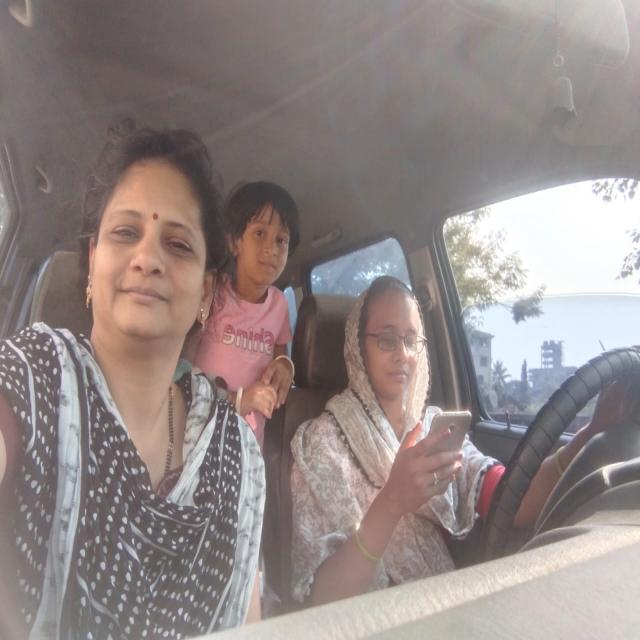mobile: (432, 408, 472, 490)
person: (76, 128, 215, 367), (344, 270, 435, 415), (222, 185, 306, 297)
